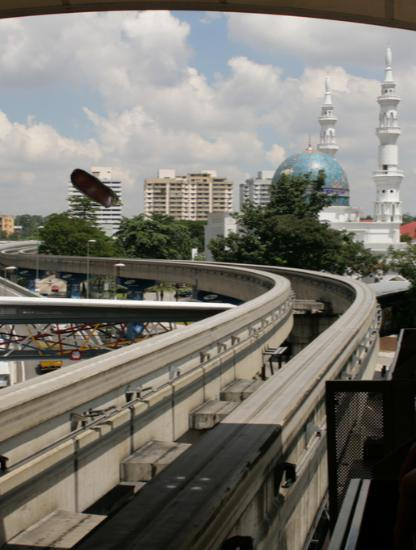Eggplant: (65, 159, 128, 222)
